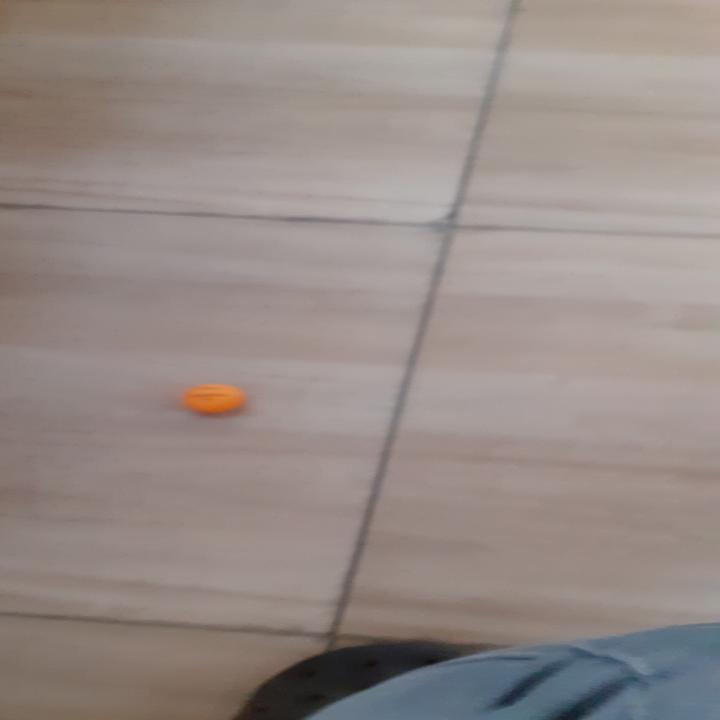orange: (185, 381, 236, 412)
